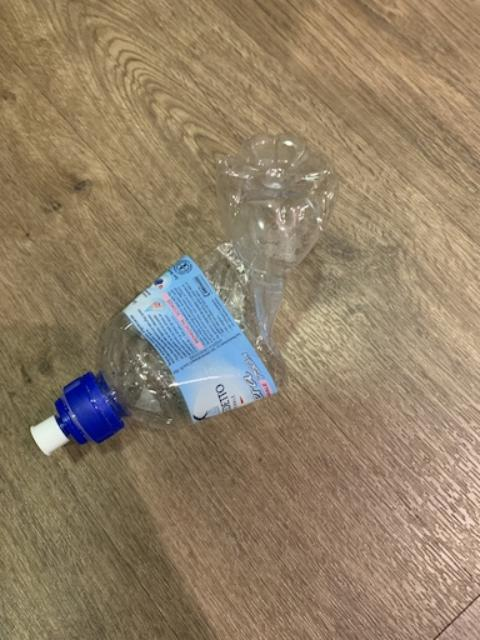plastic: (98, 135, 336, 439)
